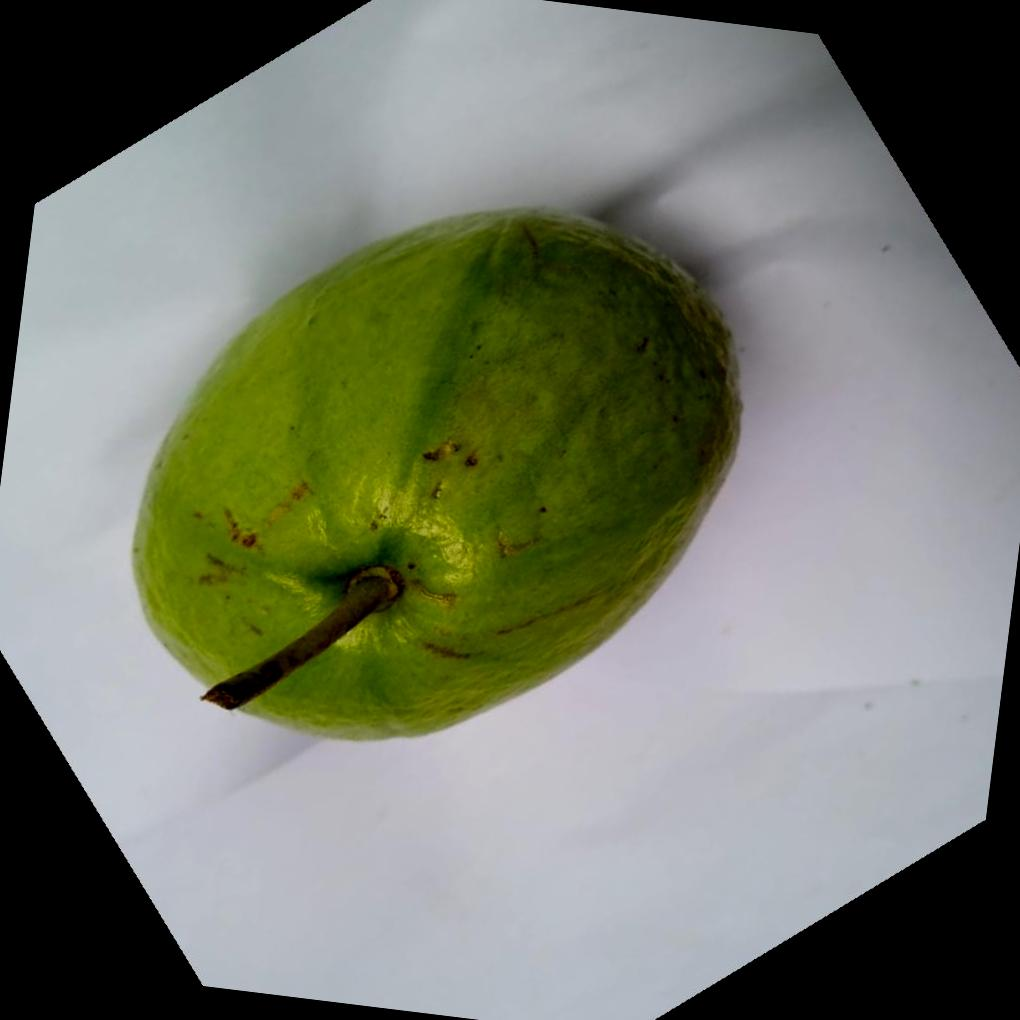FreshGuava: (126, 205, 741, 743)
